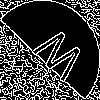W: (25, 25, 88, 90)
